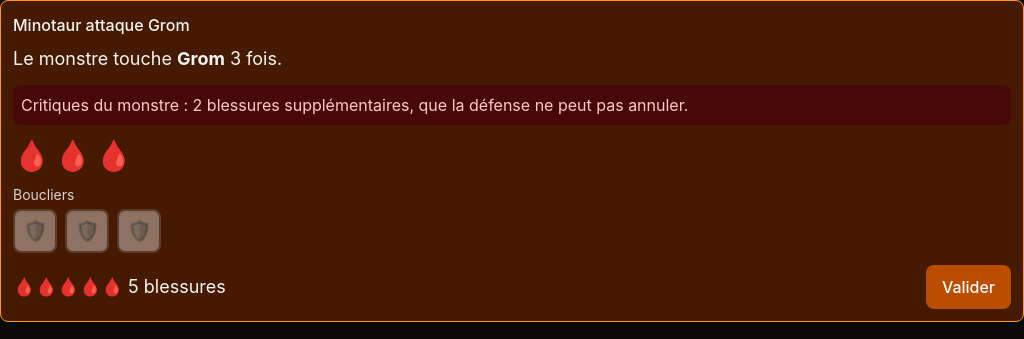
Test case: saisie des dés d’un monstre à compétence › défense lancée par le joueur : les blessures supplémentaires de critique sont annoncées et ajoutées au total
Later steps or results of the test are not shown.
Expected: the text with test id "extra-wounds" shows "2 blessures supplémentaires", top-left (13, 85), bottom-right (1011, 125)
Expected: the text "🩸🩸🩸🩸🩸 5 blessures" is shown, top-left (13, 273), bottom-right (226, 301)
Click the button named "Boucliers, dé 1". click: (35, 231)
box: top-left (13, 209), bottom-right (57, 253)
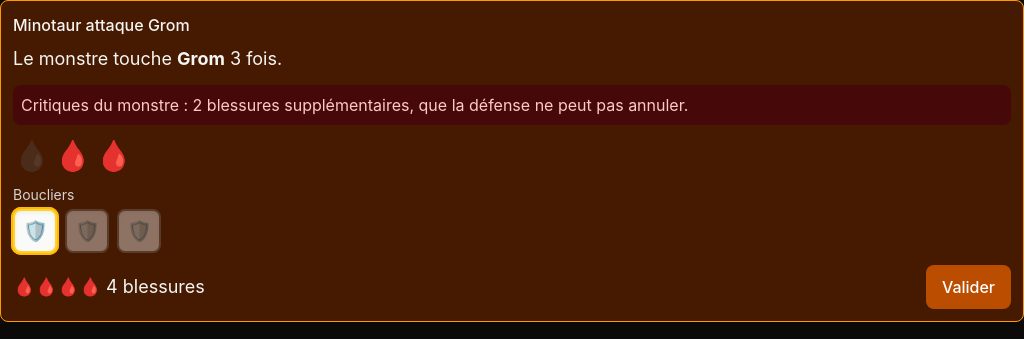
Click the button named "Boucliers, dé 2". click: (87, 231)
box: top-left (65, 209), bottom-right (109, 253)
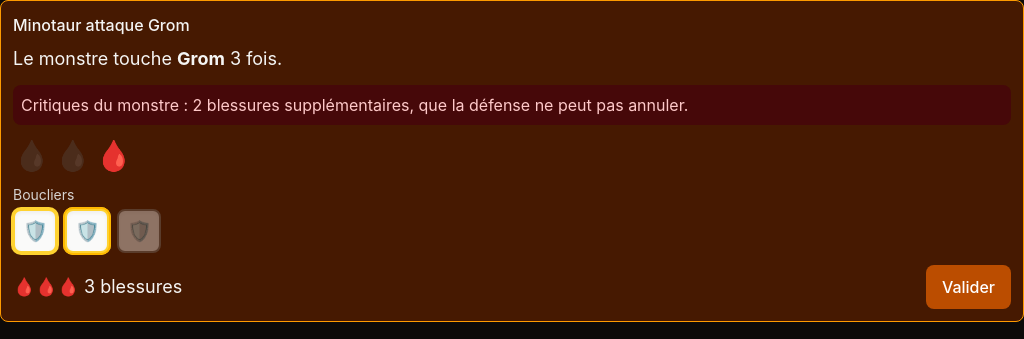
Result: the text "🩸🩸🩸 3 blessures" is shown at top-left (13, 273), bottom-right (182, 301)
